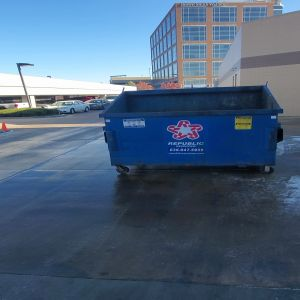Dumpster: (100, 86, 285, 177)
